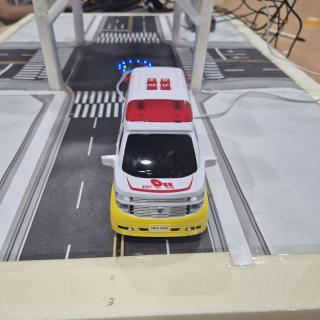Ambulance: (101, 67, 217, 237)
